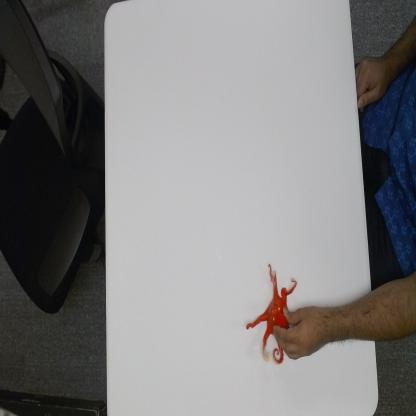Arm: (335, 268, 416, 344)
Hand: (272, 301, 335, 362)
Octopus: (244, 259, 298, 365)
